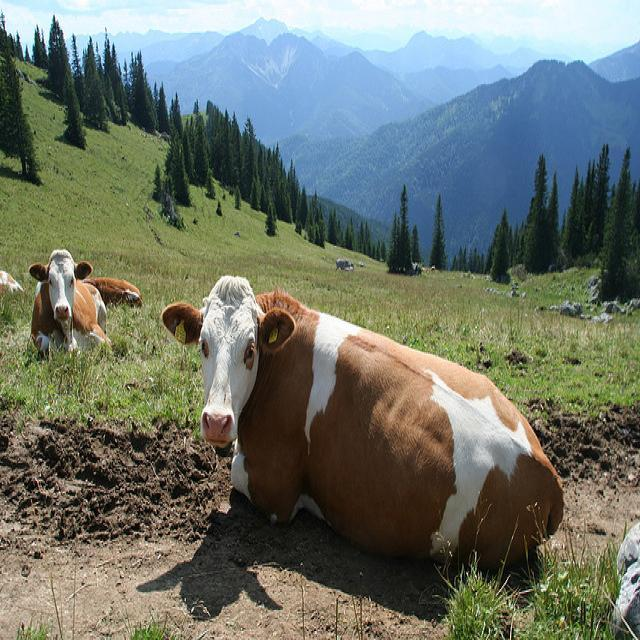cow: (157, 273, 569, 567), (25, 246, 113, 369), (84, 274, 141, 306), (0, 267, 23, 291)
